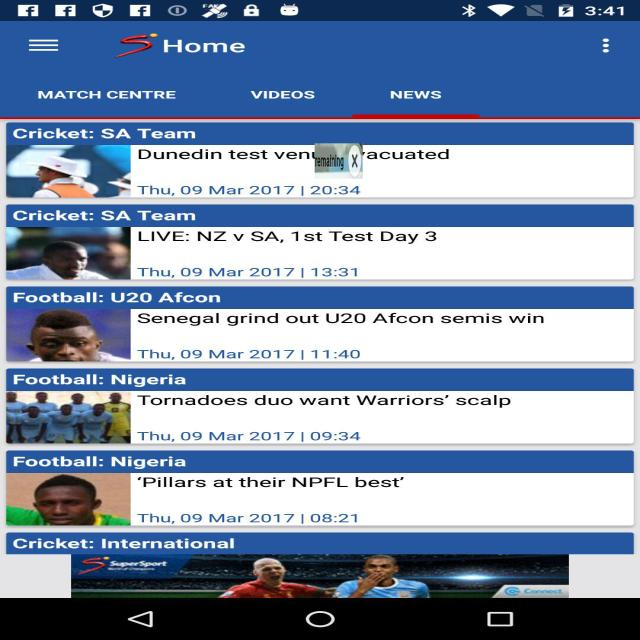misdirection: (314, 143, 362, 179)
